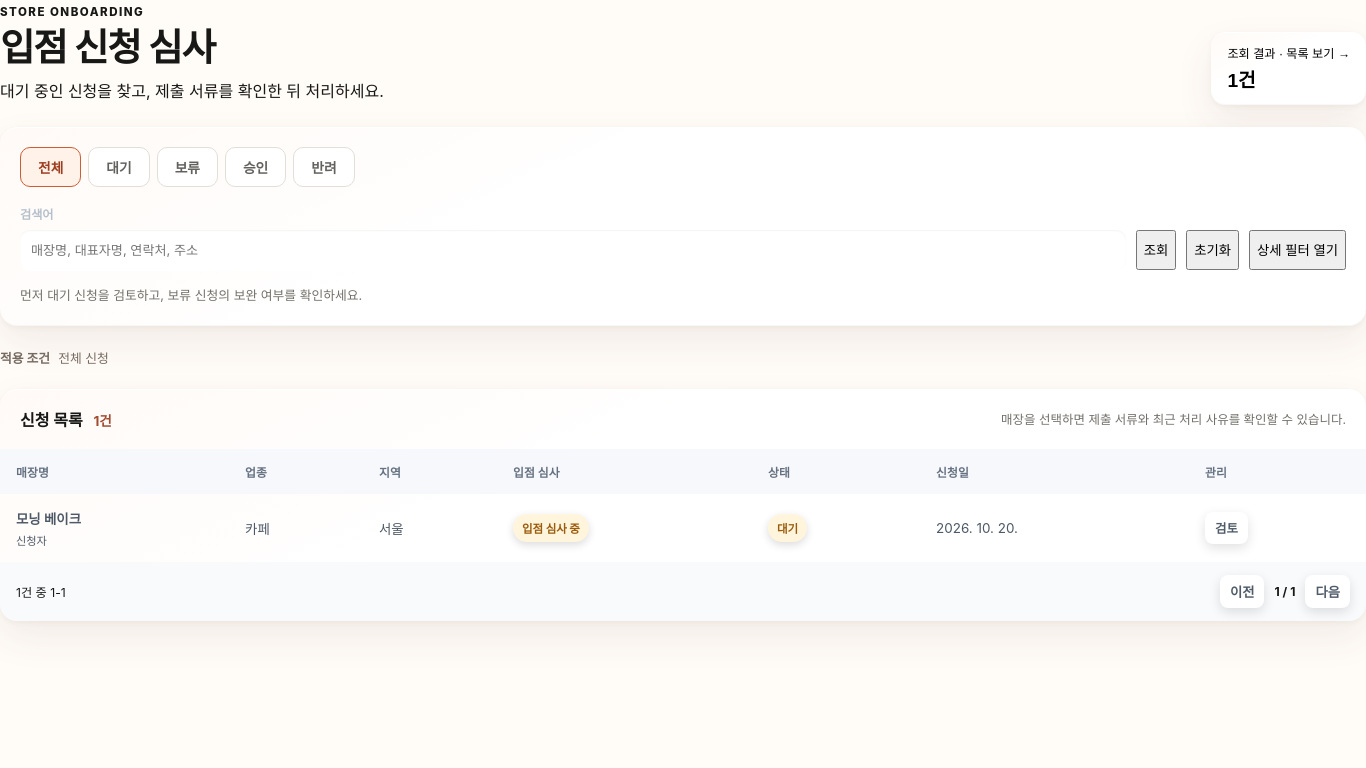
Test: preserves version confirmation and refreshes a conflicting approval
Click the button "검토". click: (1226, 528)
box: [1205,512,1248,544]
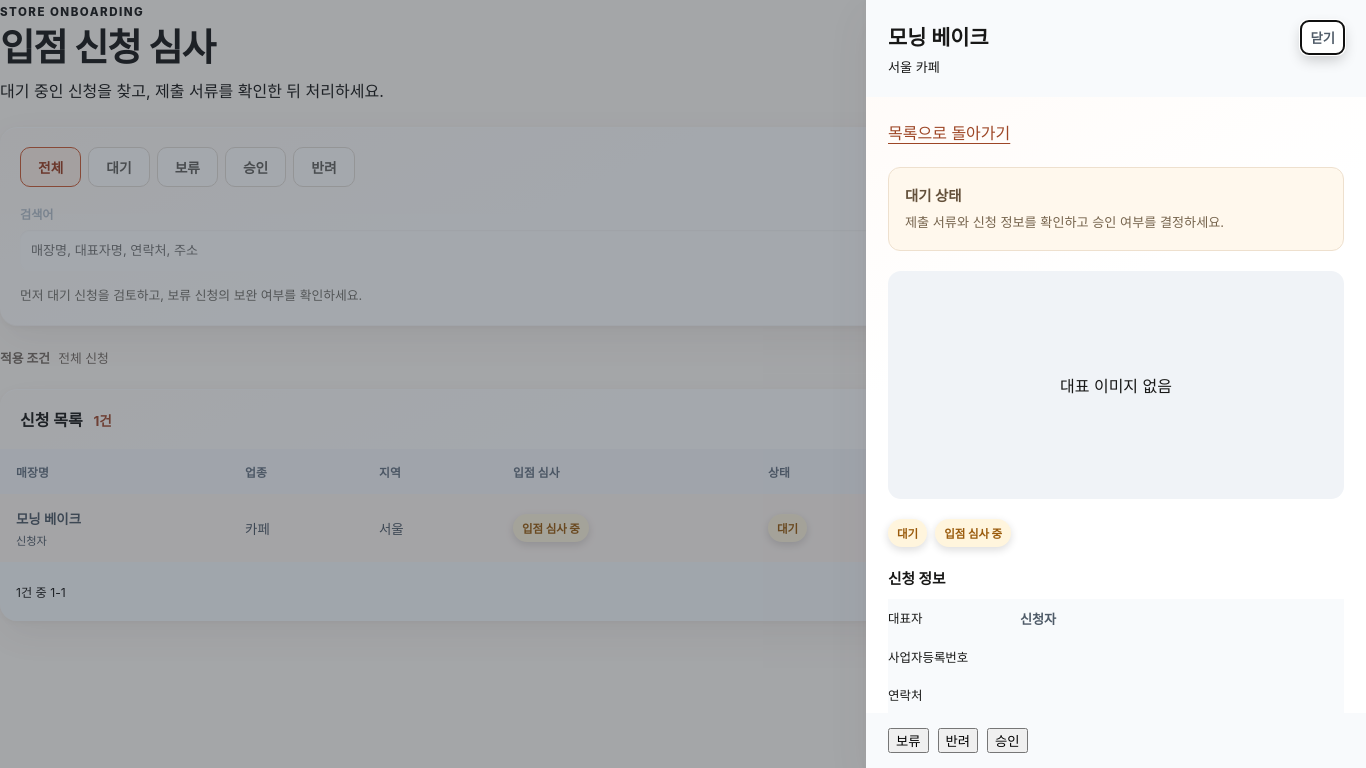
Click the button "승인". click: (1007, 740)
box: [987,728,1028,753]
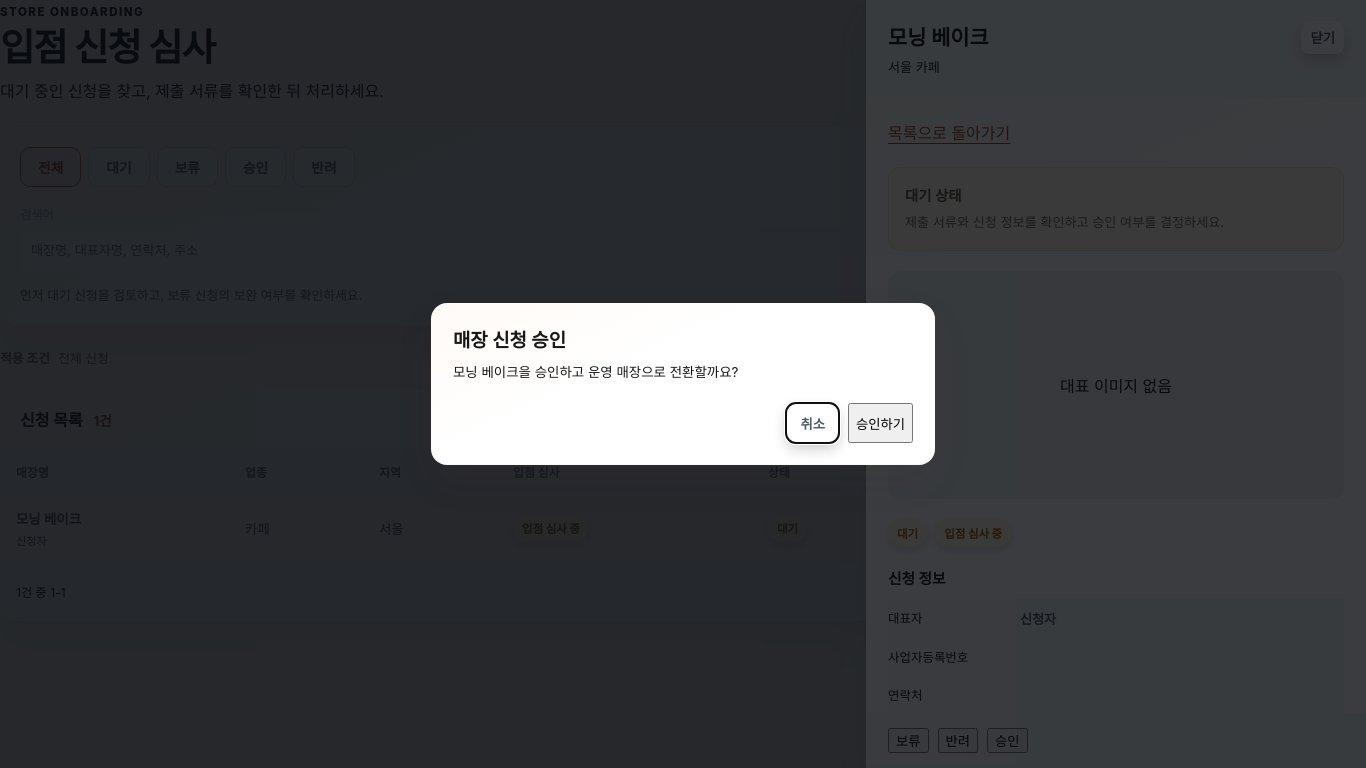
Click the button "승인하기". click: (880, 423)
box: [848,403,913,443]
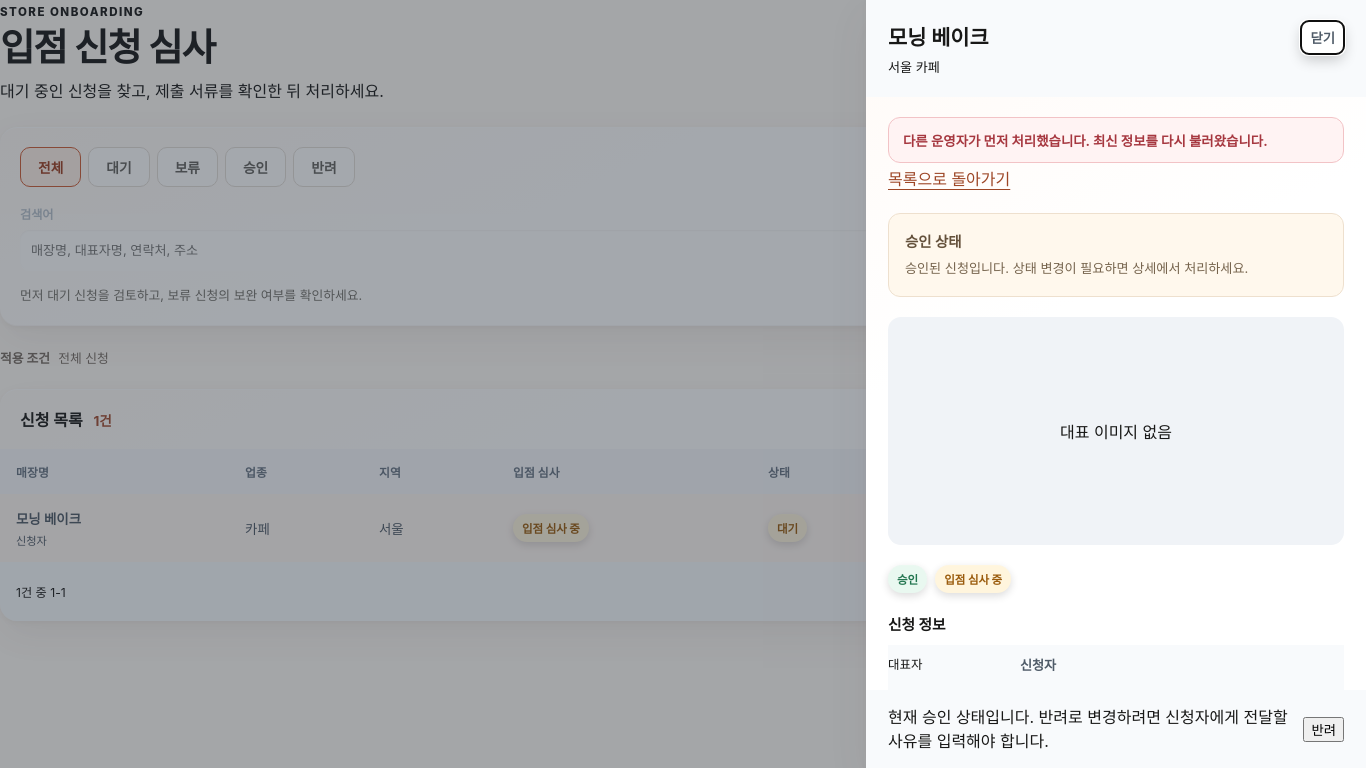
Expected: the message reads "다른 운영자가 먼저 처리했습니다. 최신 정보를 다시 불러왔습니다.", [903,133,1268,149]
Expected: the text "승인 상태" is shown, [905,233,961,250]
